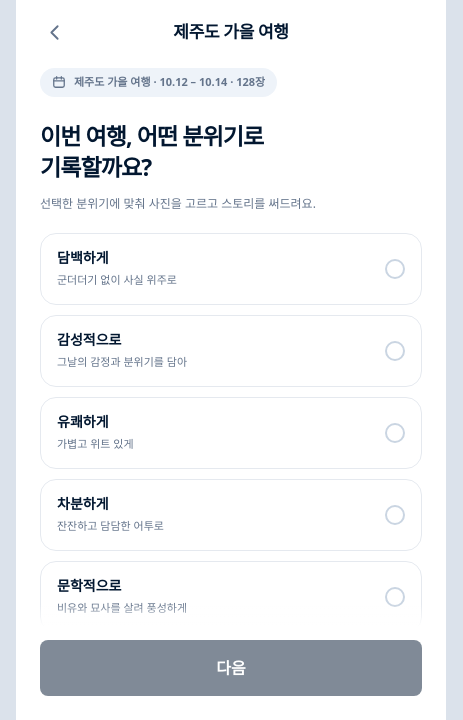
Test: StoryCreatePage › 사진 정리 중이라 폴더 조회가 409로 거절되면 정리 중 안내와 돌아가기 링크를 보여준다
The image size is (463, 720).
Click the radio button labelled "담백하게 군더더기 없이 사실 위주로" at (395, 269), box [385, 259, 405, 279]
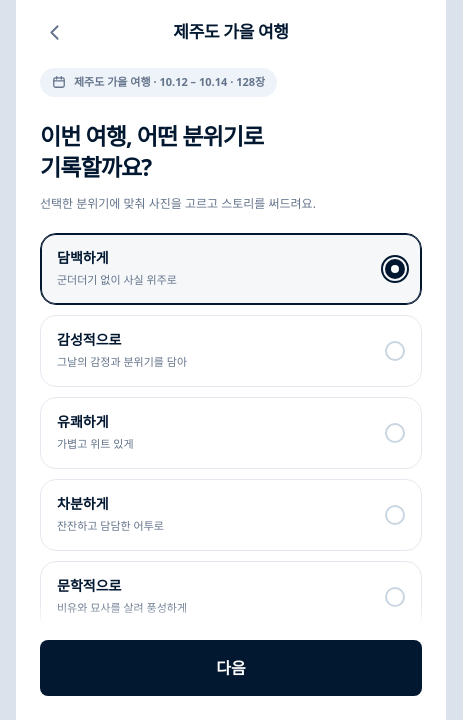
Click the button "다음" at (231, 668), box [40, 640, 422, 696]
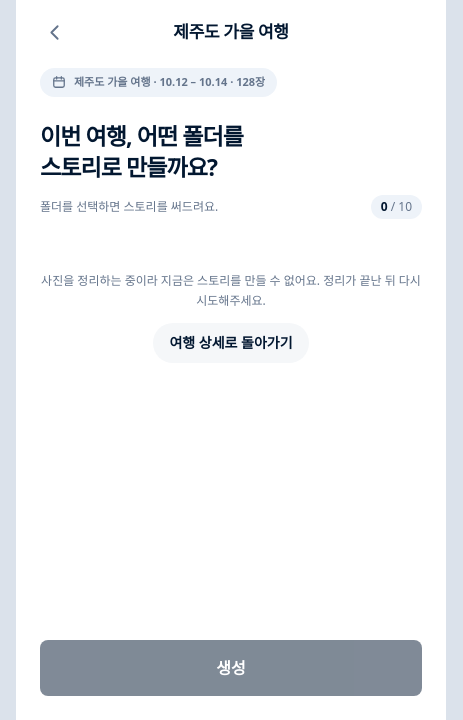
expect the message shows "사진을 정리하는 중이라 지금은 스토리를 만들 수 없어요.": met, box [41, 272, 421, 309]
